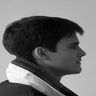ear: (31, 39, 54, 66)
